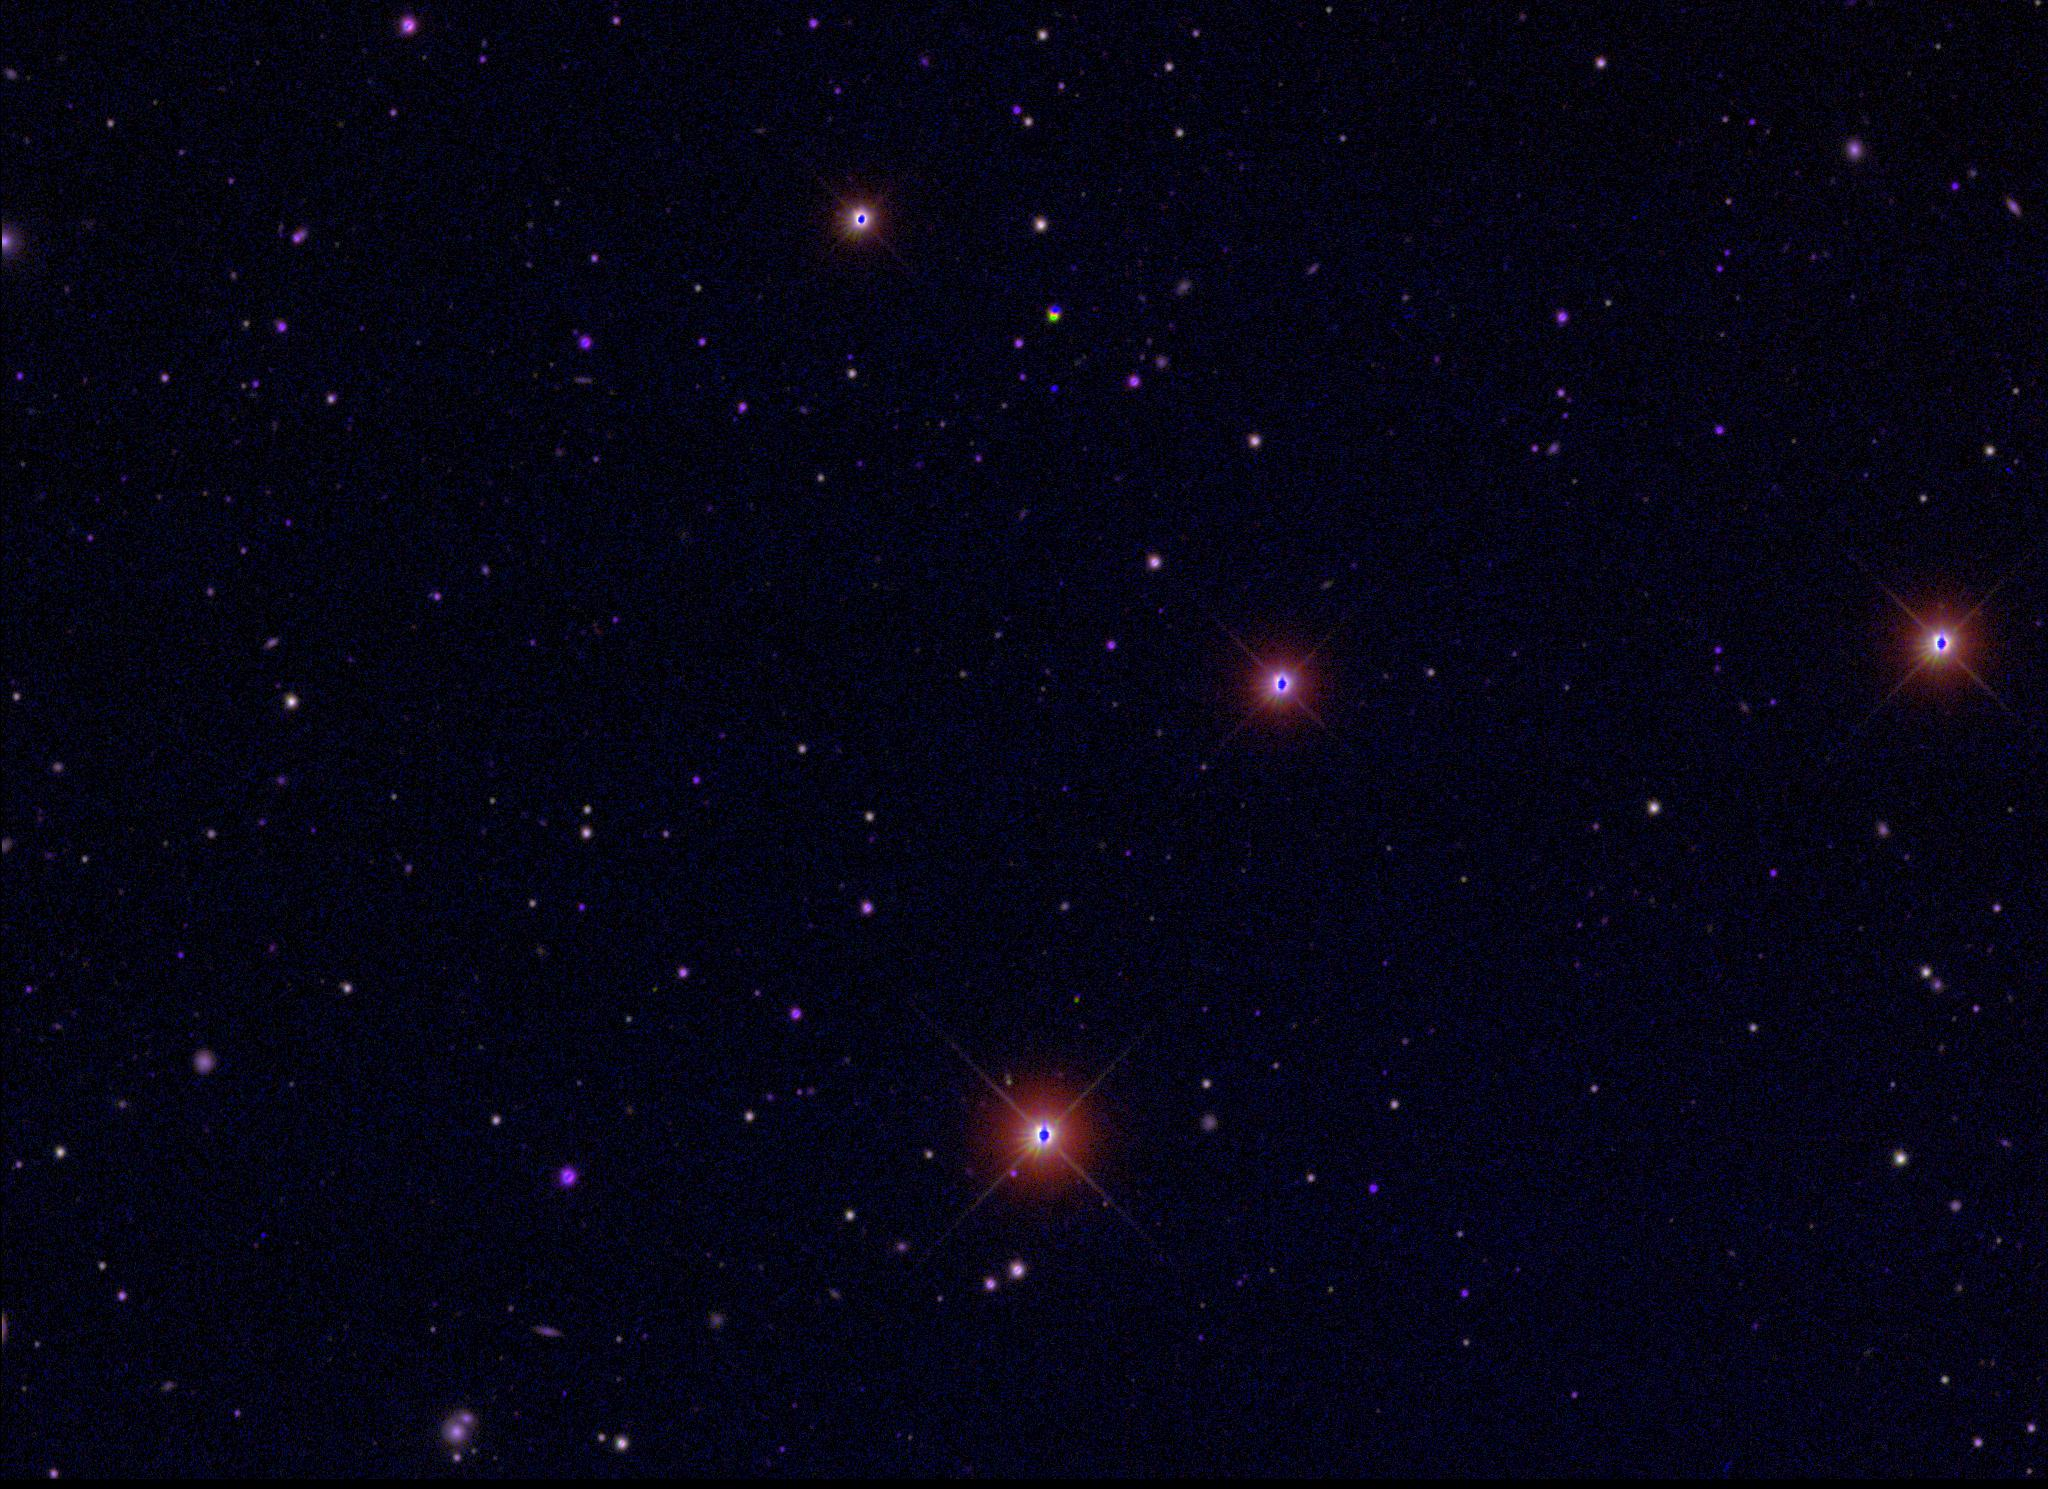L: (1046, 382, 1061, 395)
